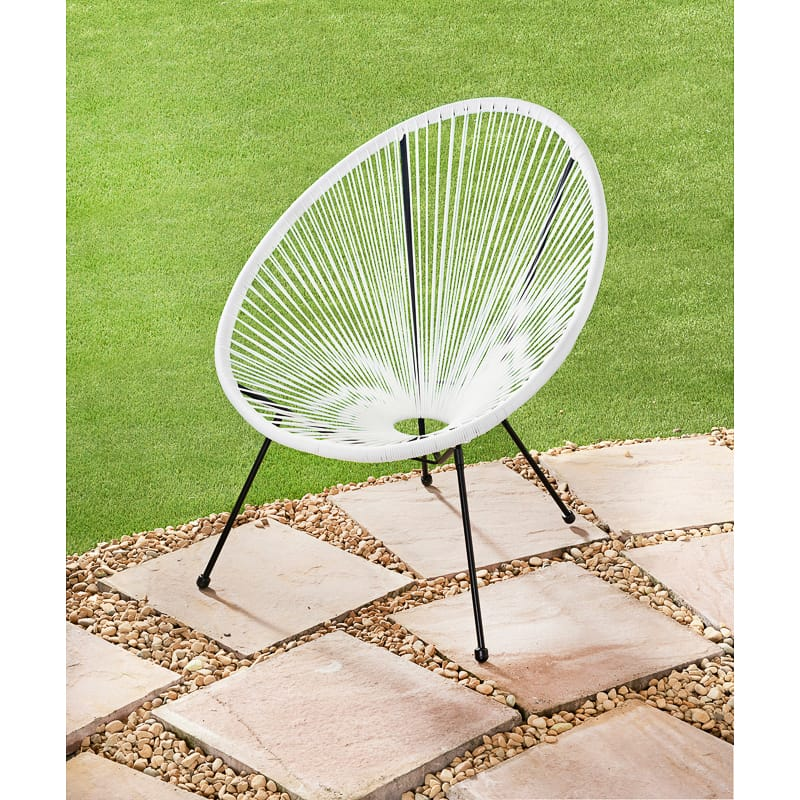chair: (174, 76, 627, 679)
